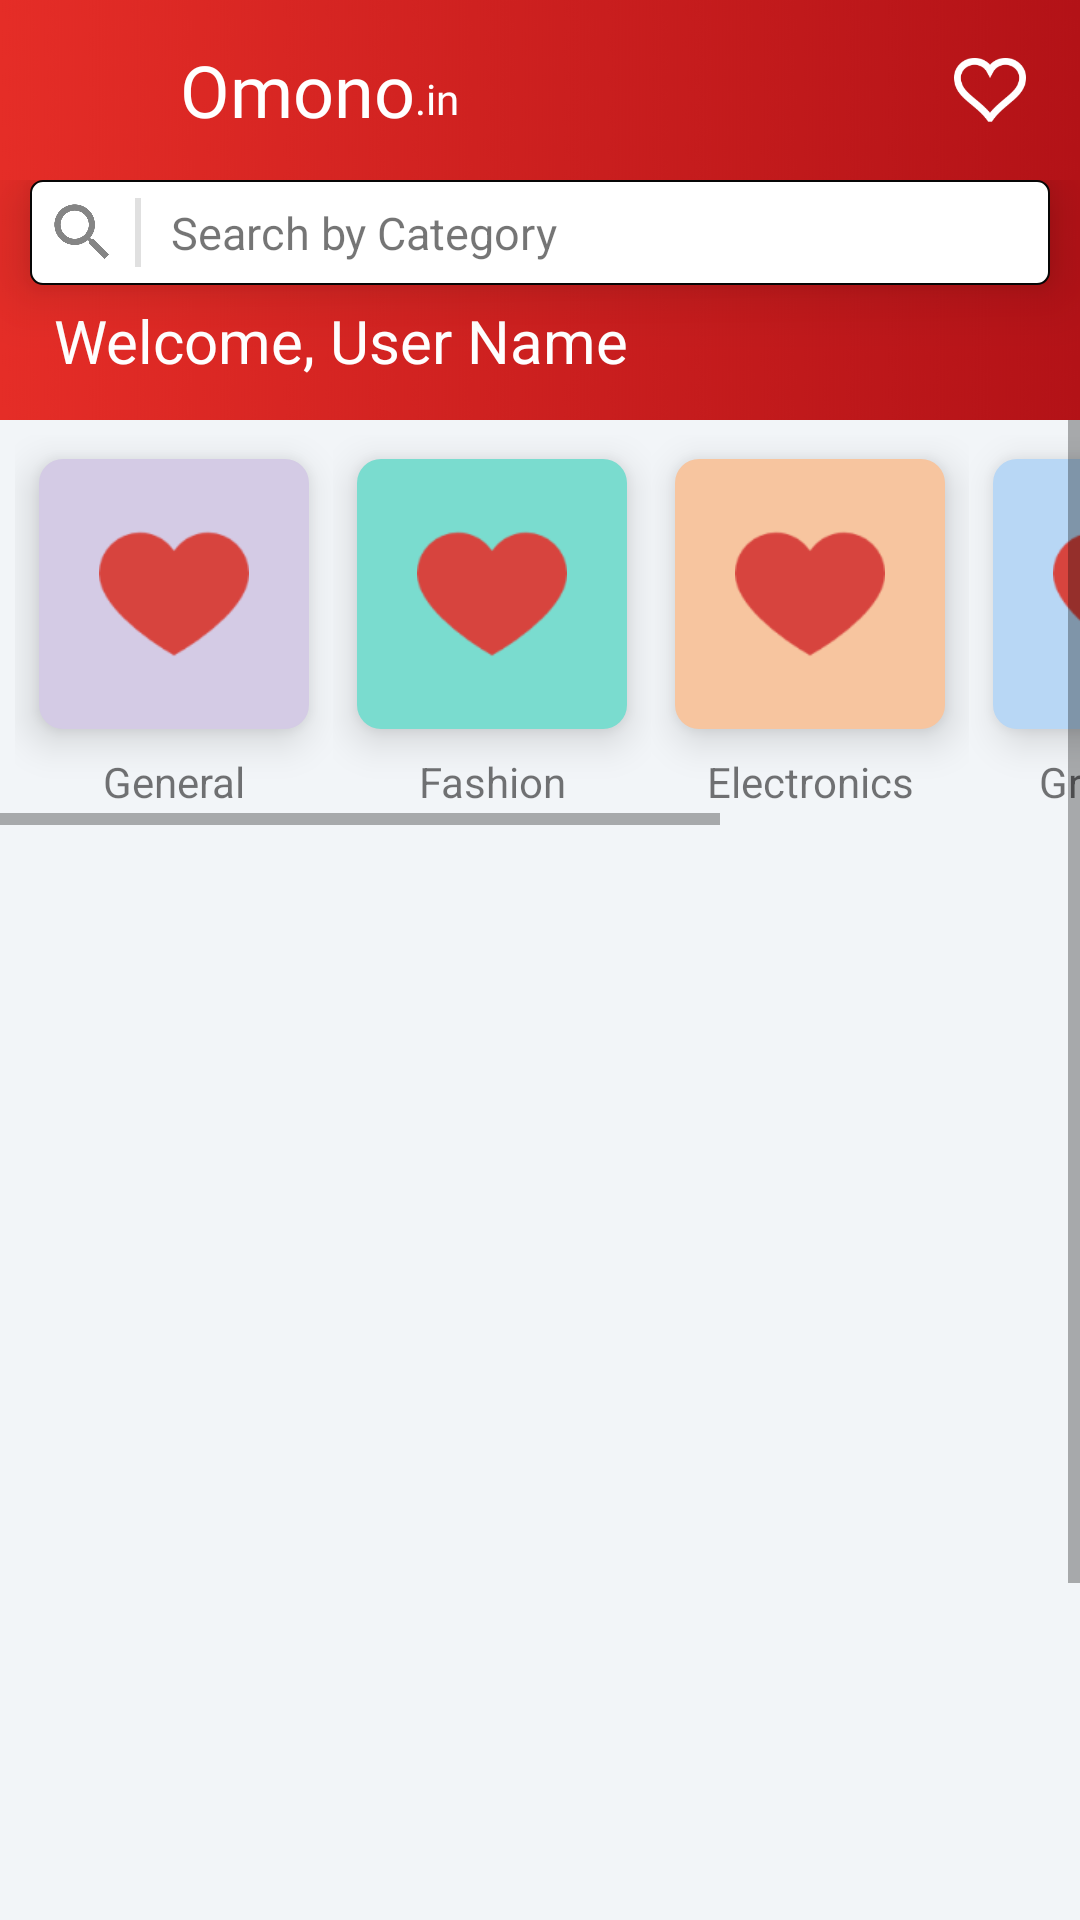

Named icons in this screenshot (1080*1920) and their centers, point (x, y):
heart thick stroke: point (990, 90)
